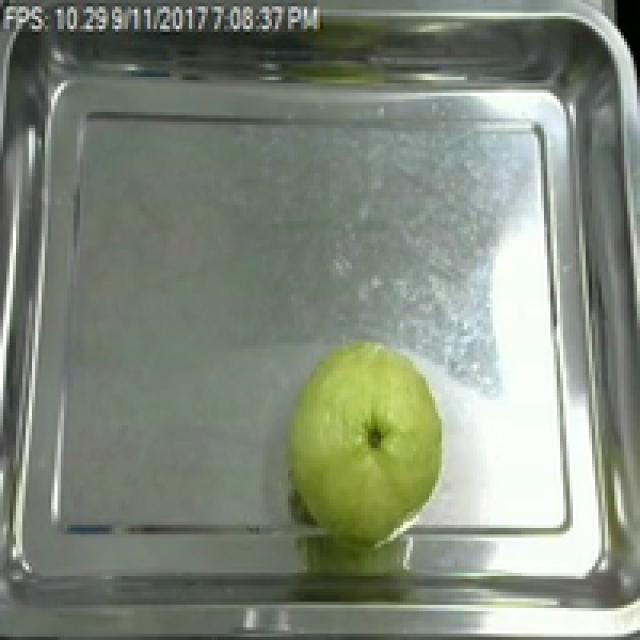Fruit: (278, 330, 458, 544)
